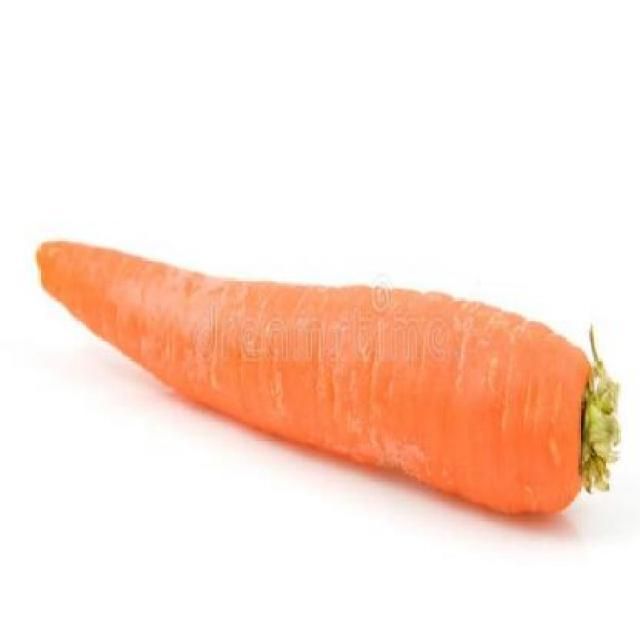carrot: (28, 222, 624, 544)
